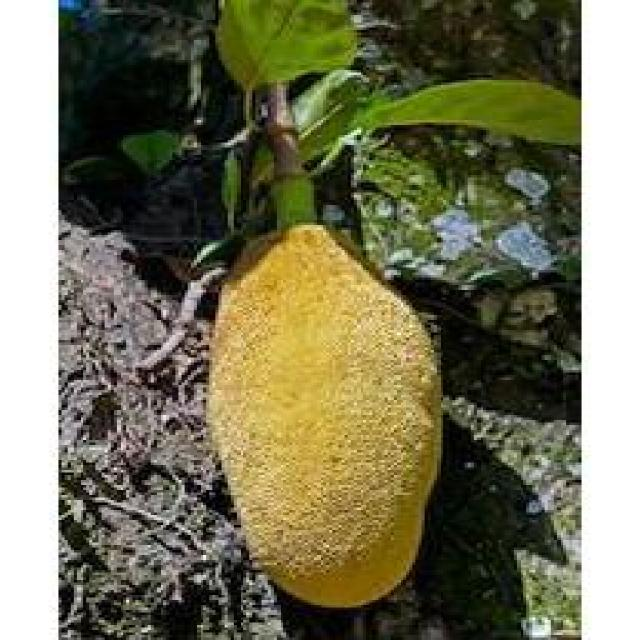Fruit: (163, 202, 471, 630)
